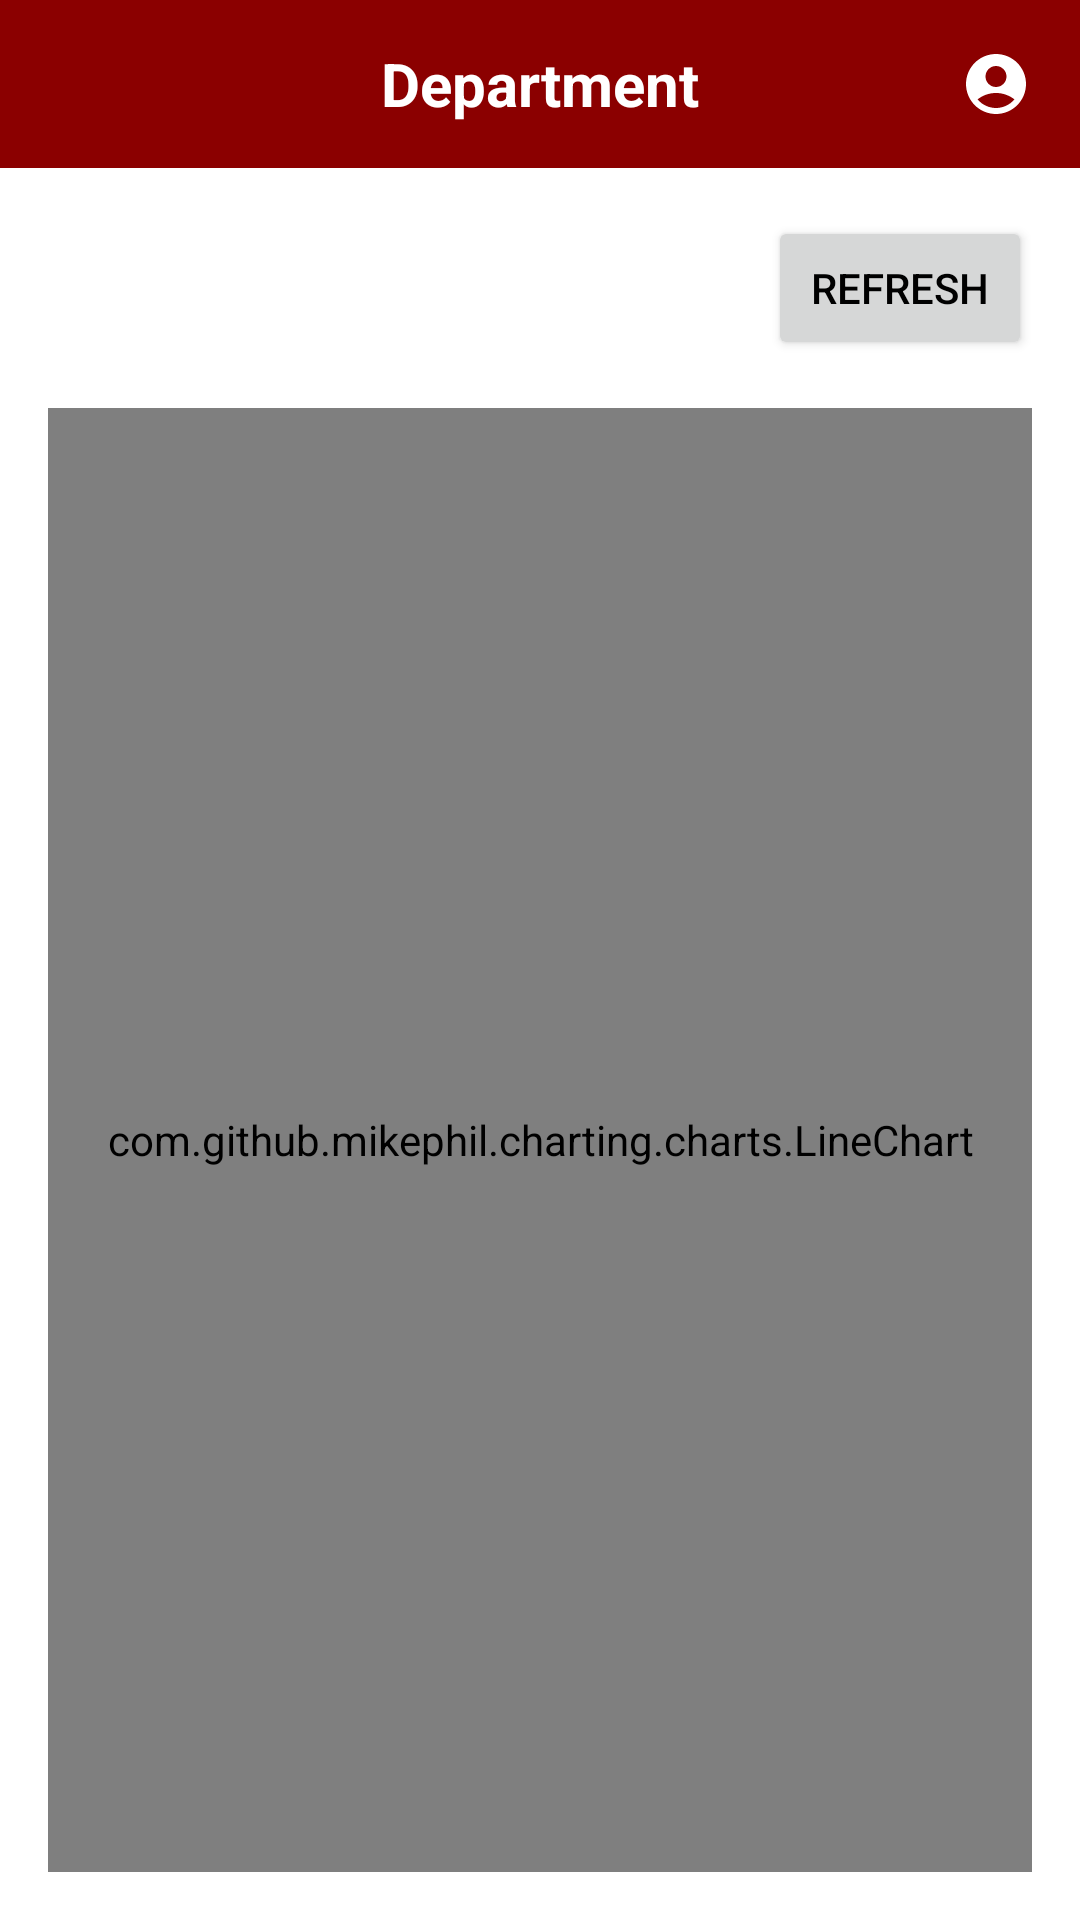

Icon click points for this 1080 x 1920 phone screenshot, format (x,y):
account circle: (996,84)
